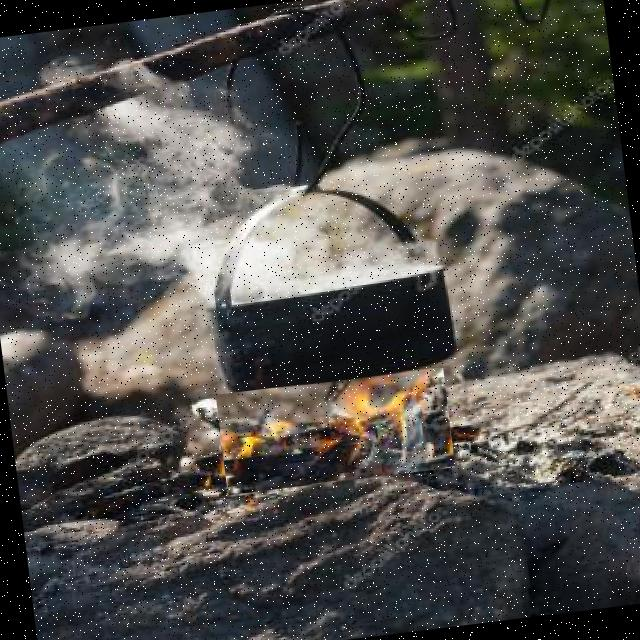fire: (215, 366, 455, 494)
